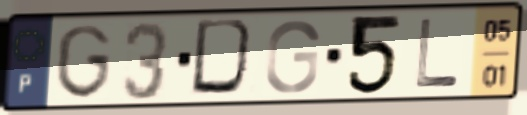3: (121, 17, 171, 103)
5: (344, 12, 407, 97)
D: (187, 16, 262, 101)
G: (54, 22, 114, 102), (262, 18, 323, 96)
L: (413, 16, 463, 90)
